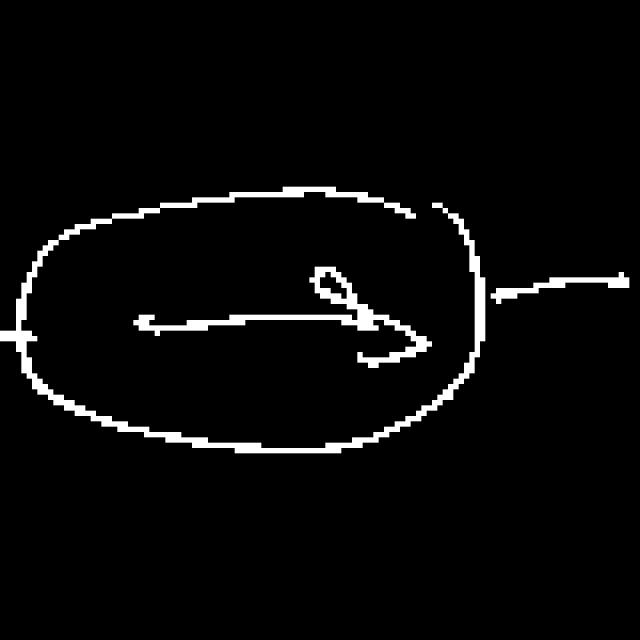current_source: (9, 180, 494, 483)
